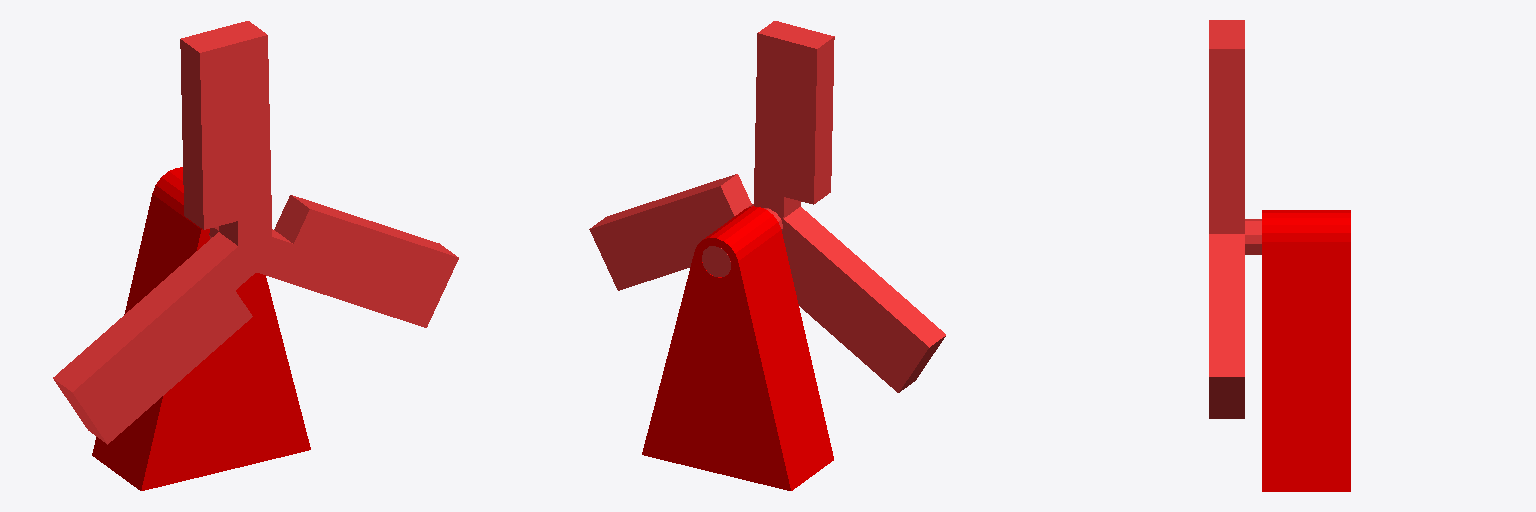
URDF robot description (Windmill):
<?xml version="1.0" encoding="utf-8"?>
<!-- This URDF was automatically created by SolidWorks to URDF Exporter! Originally created by [author] ([email redacted]) 
     Commit Version: 1.6.0-4-g7f85cfe  Build Version: 1.6.7995.38578
     For more information, please see http://wiki.ros.org/sw_urdf_exporter -->
<robot
  name="Windmill">
  <link
    name="base_link">
    <inertial>
      <origin
        xyz="-7.1007E-20 2.3843E-17 0.28127"
        rpy="0 0 0" />
      <mass
        value="55.504" />
      <inertia
        ixx="2.2896"
        ixy="-1.5461E-17"
        ixz="1.6403E-16"
        iyy="2.6332"
        iyz="-7.4112E-17"
        izz="0.92172" />
    </inertial>
    <visual>
      <origin
        xyz="0 0 0"
        rpy="0 0 0" />
      <geometry>
        <mesh
          filename="package://Windmill/meshes/base_link.STL" />
      </geometry>
      <material
        name="">
        <color
          rgba="1 0 0 1" />
      </material>
    </visual>
    <collision>
      <origin
        xyz="0 0 0"
        rpy="0 0 0" />
      <geometry>
        <mesh
          filename="package://Windmill/meshes/base_link.STL" />
      </geometry>
    </collision>
  </link>
  <link
    name="Blade_Link">
    <inertial>
      <origin
        xyz="4.4409E-16 -4.996E-16 0.21151"
        rpy="0 0 0" />
      <mass
        value="34.923" />
      <inertia
        ixx="2.3776"
        ixy="1.1685E-14"
        ixz="-7.9801E-16"
        iyy="2.3776"
        iyz="6.6901E-16"
        izz="4.4898" />
    </inertial>
    <visual>
      <origin
        xyz="0 0 0"
        rpy="0 0 0" />
      <geometry>
        <mesh
          filename="package://Windmill/meshes/Blade_Link.STL" />
      </geometry>
      <material
        name="">
        <color
          rgba="0.96863 0.25882 0.25882 1" />
      </material>
    </visual>
    <collision>
      <origin
        xyz="0 0 0"
        rpy="0 0 0" />
      <geometry>
        <mesh
          filename="package://Windmill/meshes/Blade_Link.STL" />
      </geometry>
    </collision>
  </link>
  <joint
    name="Joint_1"
    type="continuous">
    <origin
      xyz="0 0 0.675"
      rpy="-1.5708 -1.5478 3.1416" />
    <parent
      link="base_link" />
    <child
      link="Blade_Link" />
    <axis
      xyz="0 0 1" />
  </joint>
</robot>

--- Facts derived from the render (not from the file) ---
3 views of the same robot in one strip: view 1: azimuth 30°, elevation 25°; view 2: azimuth 150°, elevation 25°; view 3: azimuth 270°, elevation 25° (orthographic).
Model Windmill with 2 links and 1 joints (1 continuous), rooted at base_link, posed all joints at 0.
Visible links, largest first — view 1: Blade_Link, base_link; view 2: Blade_Link, base_link; view 3: base_link, Blade_Link.
Boxes of the visible links, x1,y1,x2,y2 form: Blade_Link: (53,21,458,444); base_link: (92,167,310,490); Blade_Link: (589,21,945,392); base_link: (642,206,833,490); base_link: (1262,210,1350,491); Blade_Link: (1209,20,1261,418).
Bounding box of the posed robot: 1.14 × 0.4 × 1.28 m (x, y, z).
2 mesh visuals loaded from 2 distinct referenced files (2 binary STL).